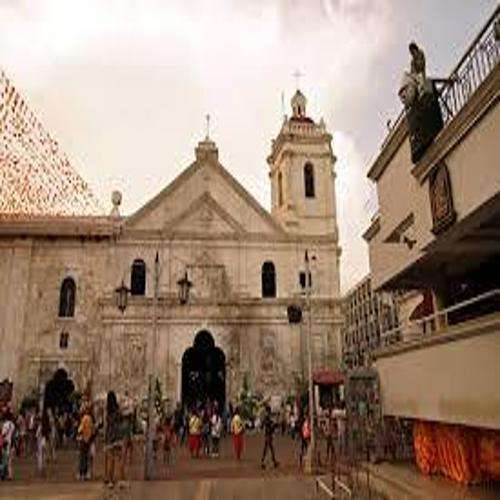Sto. Nino Basilica Church: (110, 67, 352, 447)
